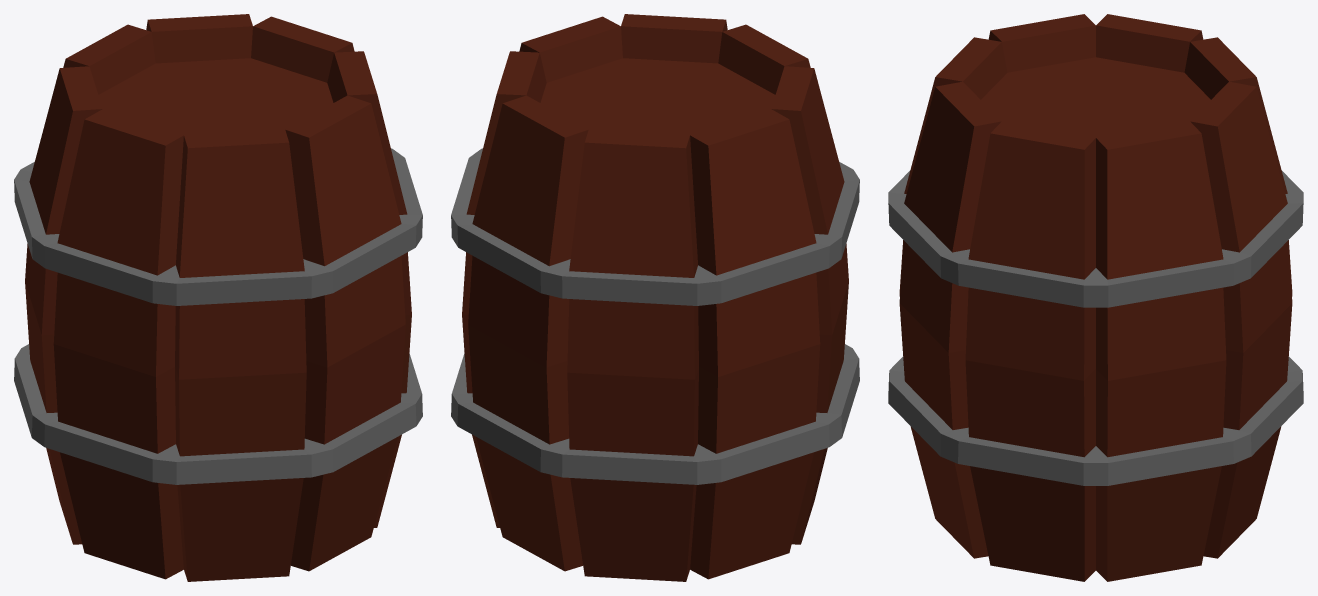
The model's file is Barrel.obj.
3 views of the same model, side by side, from view 1: azimuth 30°, elevation 25°; view 2: azimuth 150°, elevation 25°; view 3: azimuth 270°, elevation 25° (orthographic).
Visible parts, largest first — view 1: Barrel_Cylinder.000; view 2: Barrel_Cylinder.000; view 3: Barrel_Cylinder.000.
Boxes of the visible parts, bbox=[...] form: Barrel_Cylinder.000: bbox=[14, 14, 422, 581]; Barrel_Cylinder.000: bbox=[451, 14, 859, 581]; Barrel_Cylinder.000: bbox=[888, 14, 1303, 581].
Bounding box in the file's own units: 1.01 × 1.16 × 1.01.
